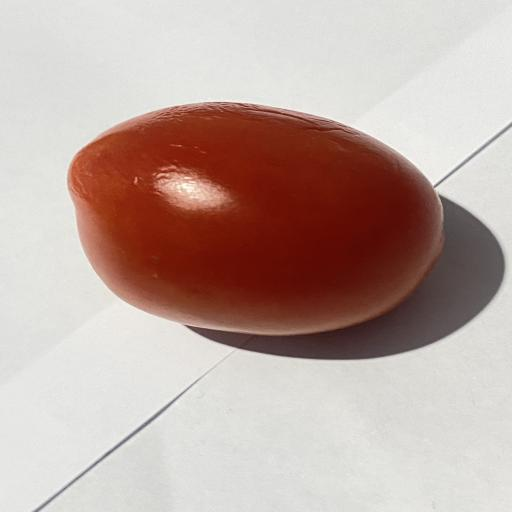spoiled: (68, 103, 443, 335)
